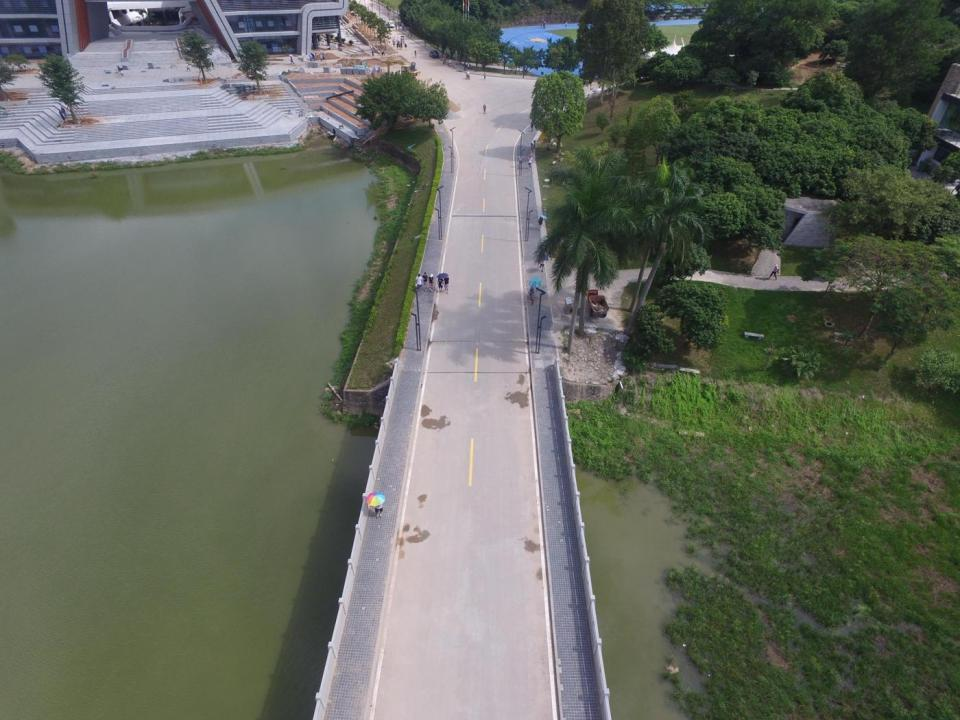car: (428, 49, 440, 59), (386, 20, 396, 28)
